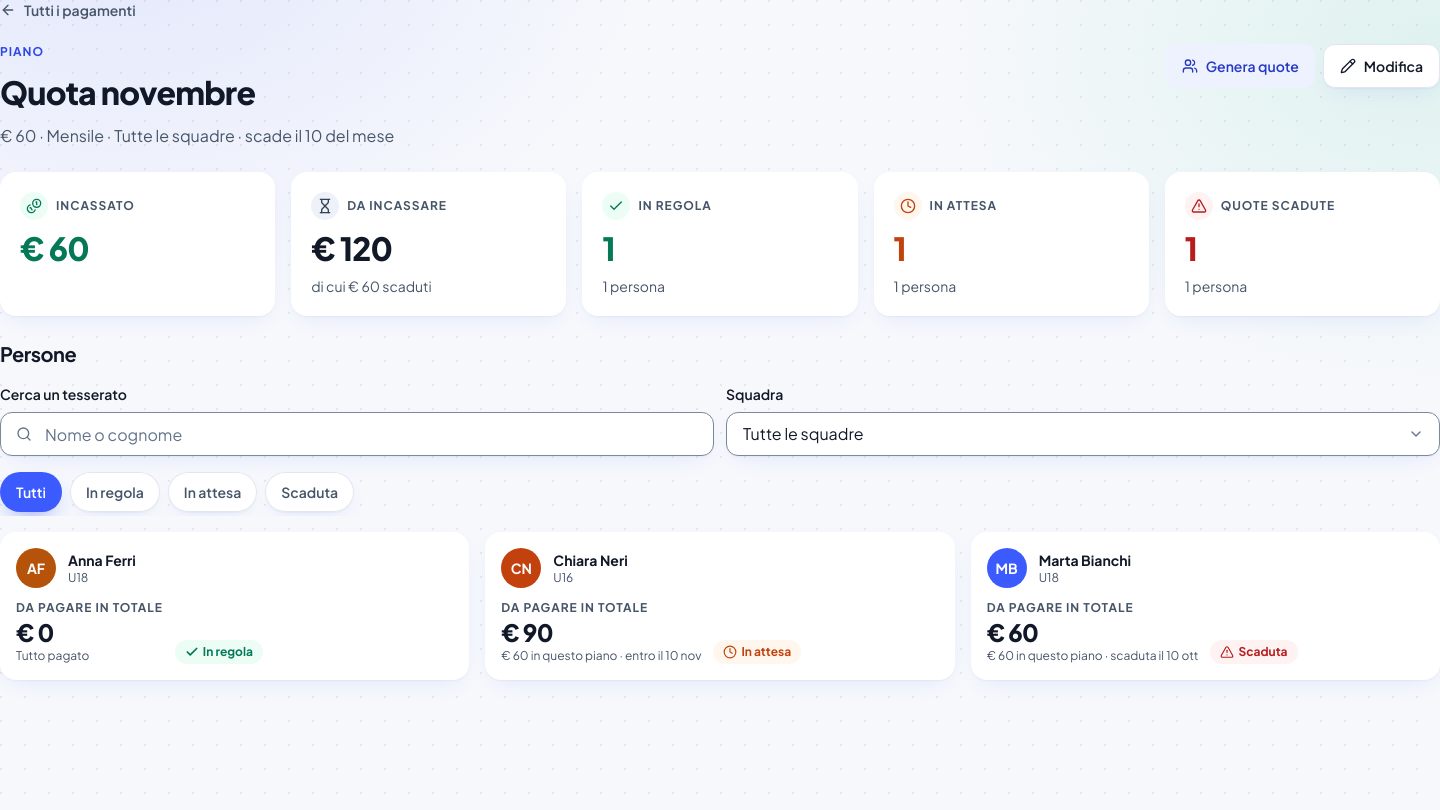
Test: PlanDetailPage: the fees of a person › opens the fees of the person of that plan only
Click the button "Chiara Neri" at (521, 568), box [485,532,955,680]
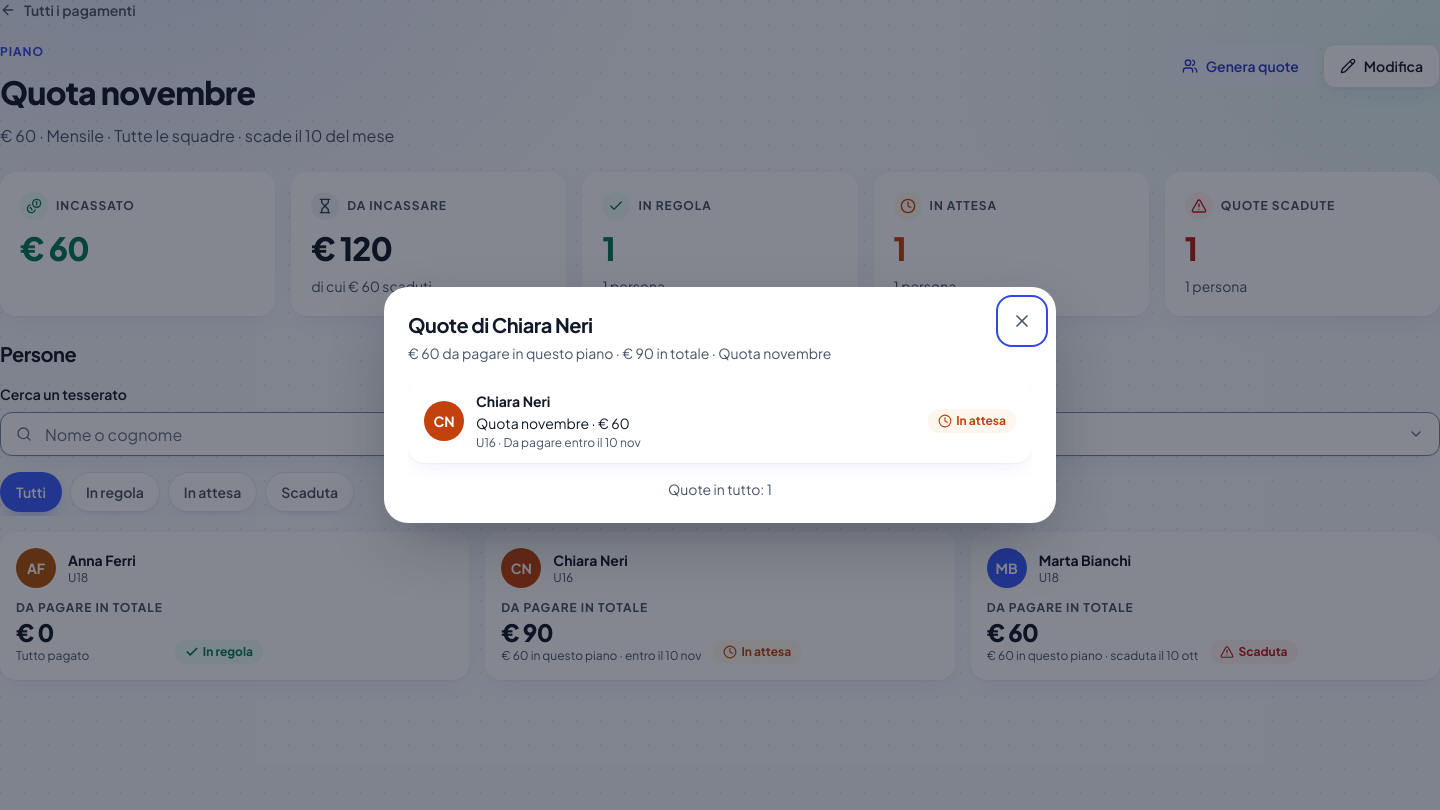
Expected: the text "Quota novembre · € 60" is shown, [476,414,630,432]
